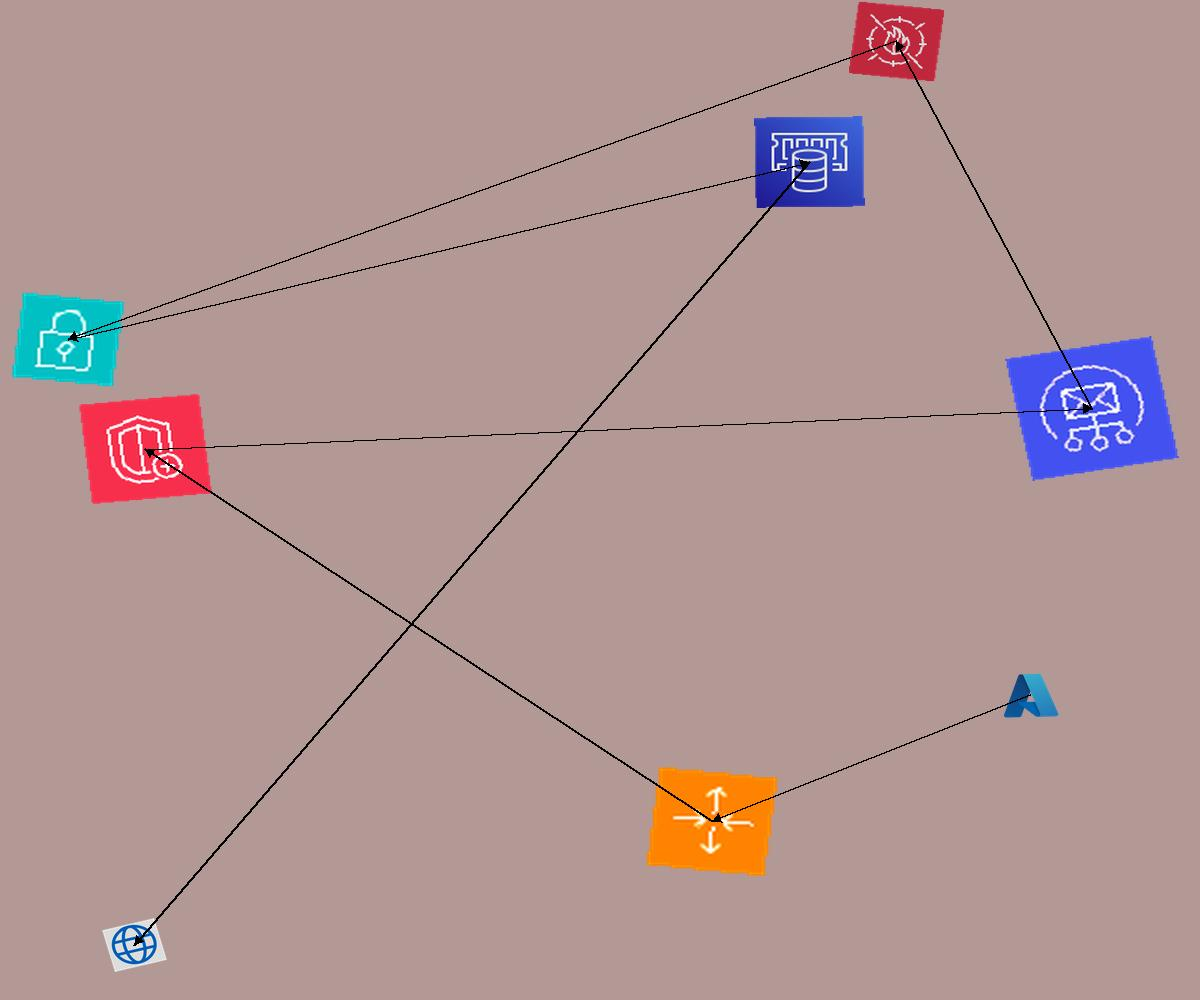AWS-ElastiCache: (754, 116, 865, 208)
AWS-Private-subnet: (10, 291, 126, 388)
AWS-Scaling-group: (644, 765, 780, 878)
AWS-Shield: (78, 393, 213, 505)
AWS-Simple-Email-Service: (1005, 336, 1179, 481)
AWS-WAF: (848, 1, 945, 82)
Azure_http: (102, 918, 167, 972)
Azure_services: (1000, 670, 1061, 721)
